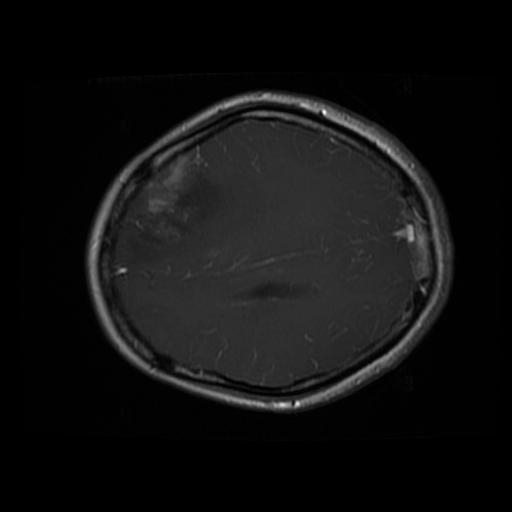glioma: (121, 147, 224, 255)
